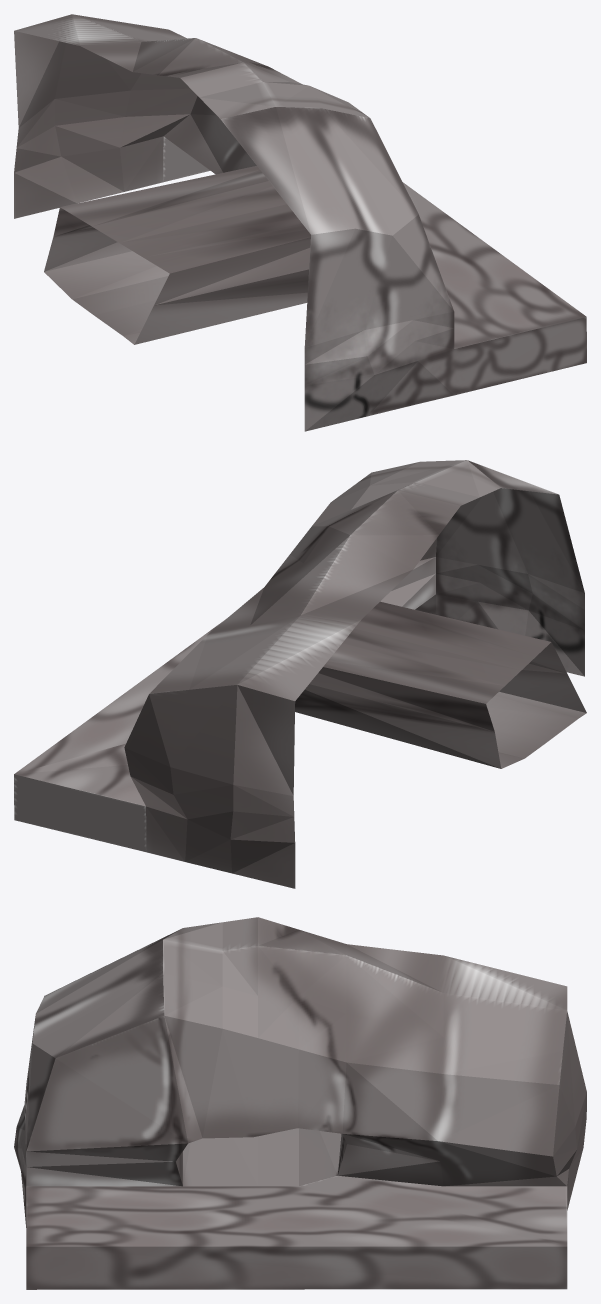
The model's file is Moving_RocksPlatform.fbx.
3 renders of one model, top to bottom at view 1: azimuth 30°, elevation 25°; view 2: azimuth 150°, elevation 25°; view 3: azimuth 270°, elevation 25°, orthographic. The views are drawn at different scales.
Parts seen in each view (by area): view 1: platform_movingrocks2; view 2: platform_movingrocks2; view 3: platform_movingrocks2.
Part boxes in pixels (left/top/right/bottom): platform_movingrocks2: left=14, top=14, right=586, bottom=431; platform_movingrocks2: left=14, top=460, right=586, bottom=888; platform_movingrocks2: left=14, top=917, right=586, bottom=1289.
Bounding box in the file's own units: 1549 × 1050 × 2229.
1 material, 1 textured.
